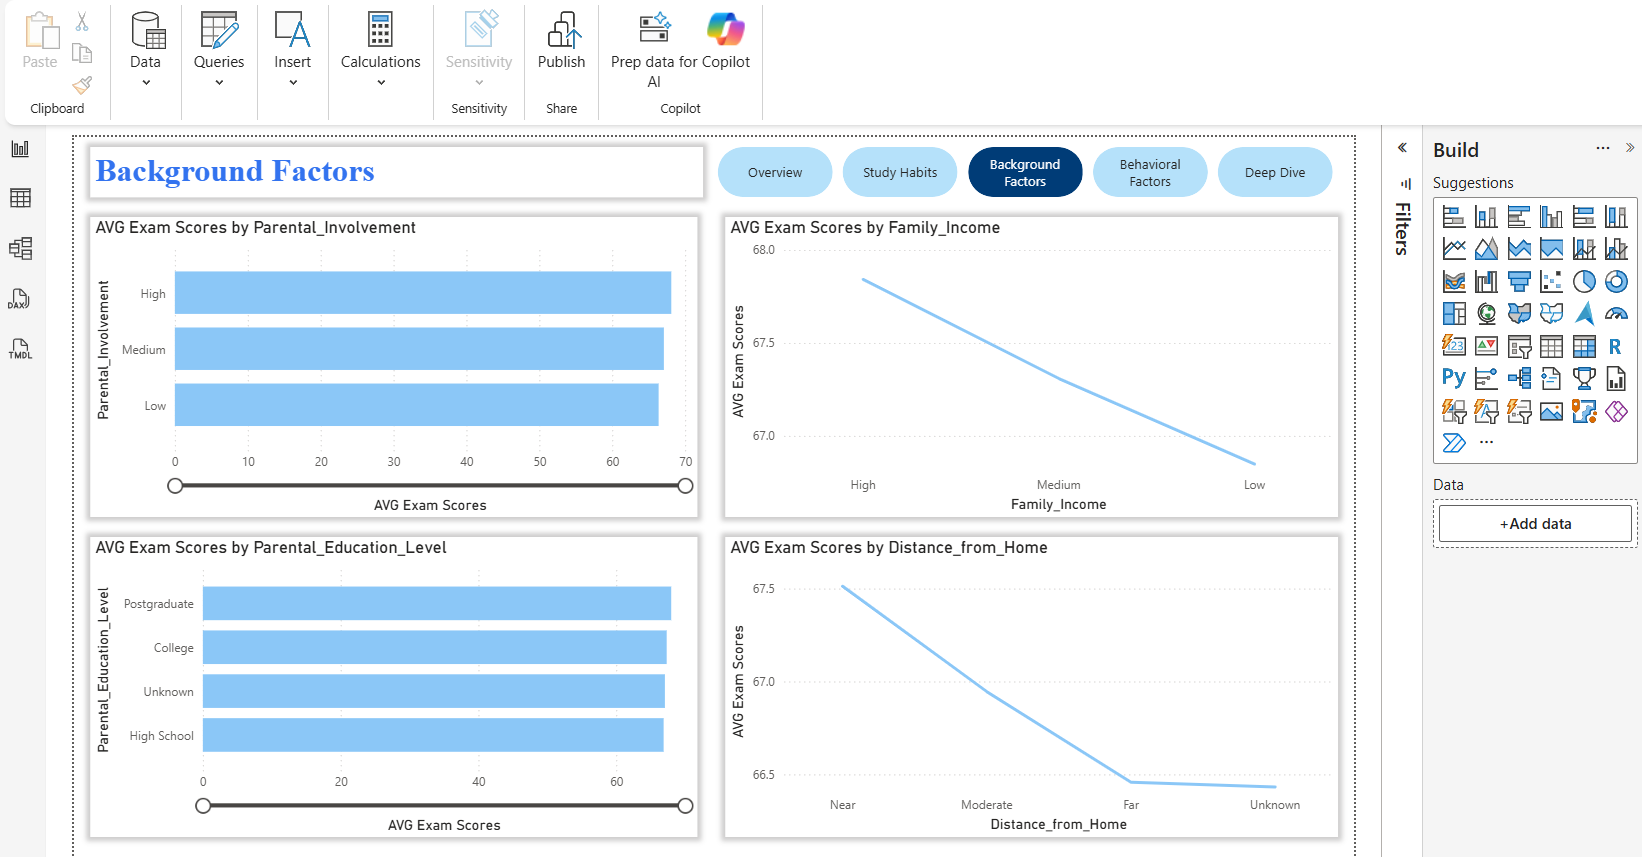

This screenshot's page, from the dashboard's own definition file:
{"tool":"powerbi","page":{"name":"Background Factors","canvas":[1280,720],"ordinal":2},"visuals":[{"type":"pageNavigator","box":[643.3,10,617.1,50],"z":0},{"type":"lineChart","fields":{"Category":["DataSet.Family_Income"],"Y":["DataSet.AVG Exam Scores"]},"box":[650.9,80,612.9,300],"z":1000},{"type":"lineChart","fields":{"Category":["DataSet.Distance_from_Home"],"Y":["DataSet.AVG Exam Scores"]},"box":[650.9,400,612.9,300],"z":2000},{"type":"clusteredBarChart","fields":{"Y":["DataSet.AVG Exam Scores"],"Category":["DataSet.Parental_Education_Level"]},"box":[16.5,400,607.1,300],"z":3000},{"type":"clusteredBarChart","fields":{"Y":["DataSet.AVG Exam Scores"],"Category":["DataSet.Parental_Involvement"]},"box":[16.5,80,607.1,300],"z":4000},{"type":"textbox","box":[15.7,10,612.9,50],"z":5000}]}

Visuals, with their boxes on the page's 1280x720 design canvas (x1, y1, x2, y2). These are canvas units, not pixel positions in the 1642x857 screenshot, which may show the page scaled, cropped or inside an application window:
pageNavigator: l=643, t=10, r=1260, b=60
lineChart - DataSet.Family_Income x DataSet.AVG Exam Scores: l=651, t=80, r=1264, b=380
lineChart - DataSet.Distance_from_Home x DataSet.AVG Exam Scores: l=651, t=400, r=1264, b=700
clusteredBarChart - DataSet.AVG Exam Scores x DataSet.Parental_Education_Level: l=16, t=400, r=624, b=700
clusteredBarChart - DataSet.AVG Exam Scores x DataSet.Parental_Involvement: l=16, t=80, r=624, b=380
textbox: l=16, t=10, r=629, b=60
